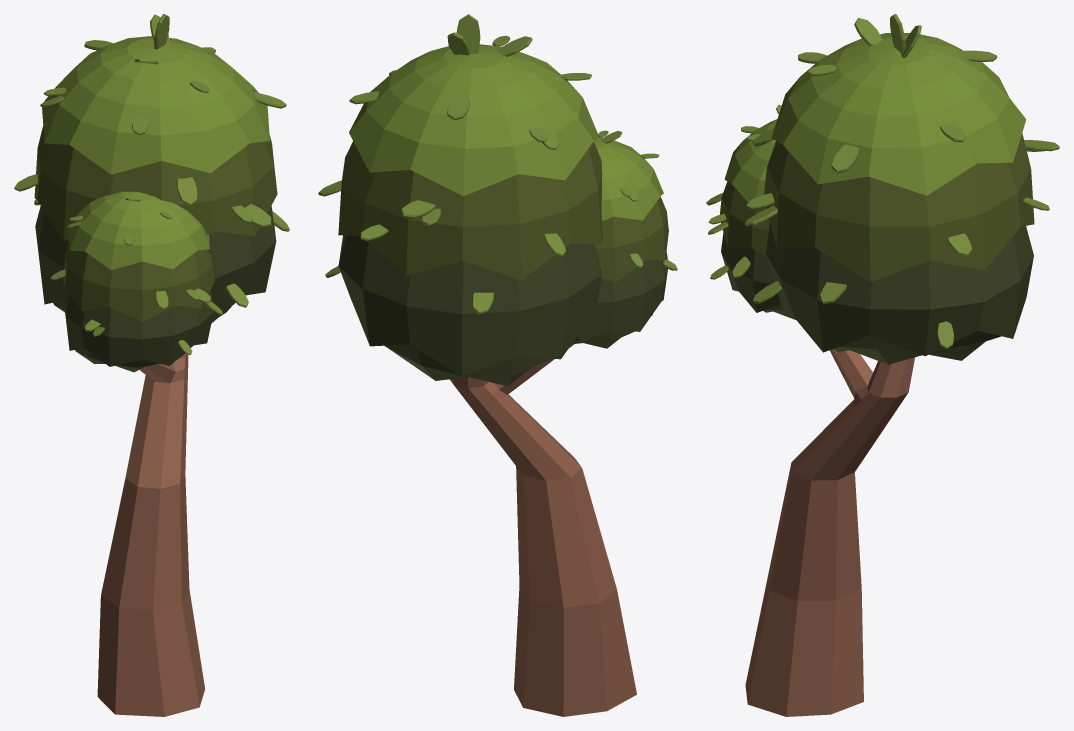
File: Tree.fbx
3 views of the same model, side by side, from view 1: azimuth 30°, elevation 25°; view 2: azimuth 150°, elevation 25°; view 3: azimuth 270°, elevation 25° (orthographic). The views are drawn at different scales.
Parts seen in each view (by area): view 1: Sphere.068, Cylinder.1363, Sphere.069, Plane.563, Plane.564; view 2: Sphere.068, Cylinder.1363, Sphere.069, Plane.563, Plane.564; view 3: Sphere.068, Cylinder.1363, Sphere.069, Plane.563, Plane.564.
Part boxes in pixels (left/top/right/bottom): Sphere.068: left=34, top=36, right=277, bottom=323; Cylinder.1363: left=97, top=353, right=204, bottom=716; Sphere.069: left=63, top=191, right=214, bottom=372; Plane.563: left=14, top=14, right=289, bottom=307; Plane.564: left=50, top=198, right=222, bottom=354; Sphere.068: left=338, top=44, right=602, bottom=386; Cylinder.1363: left=450, top=344, right=636, bottom=716; Sphere.069: left=572, top=137, right=668, bottom=348; Plane.563: left=318, top=14, right=591, bottom=314; Plane.564: left=598, top=130, right=677, bottom=270; Sphere.068: left=764, top=33, right=1034, bottom=364; Cylinder.1363: left=745, top=349, right=914, bottom=716; Sphere.069: left=720, top=119, right=795, bottom=319; Plane.563: left=745, top=14, right=1059, bottom=348; Plane.564: left=706, top=105, right=781, bottom=279.
Size of the model in its own units: 320 by 797 by 361.
